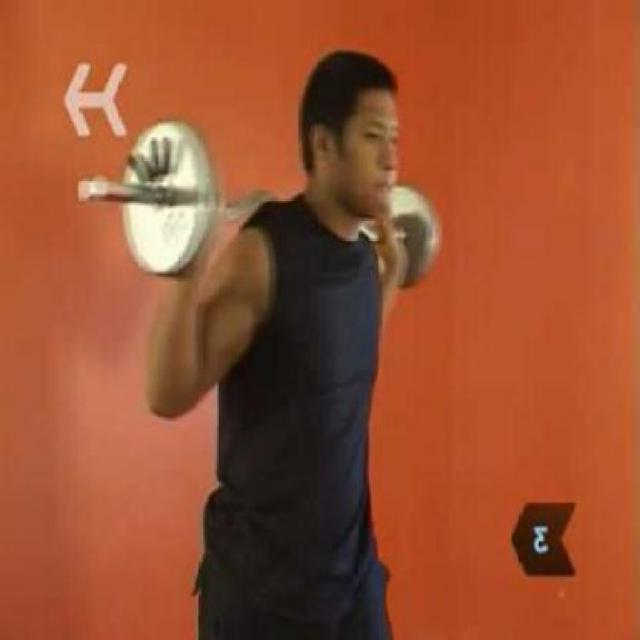Barbell: (74, 165, 102, 213)
